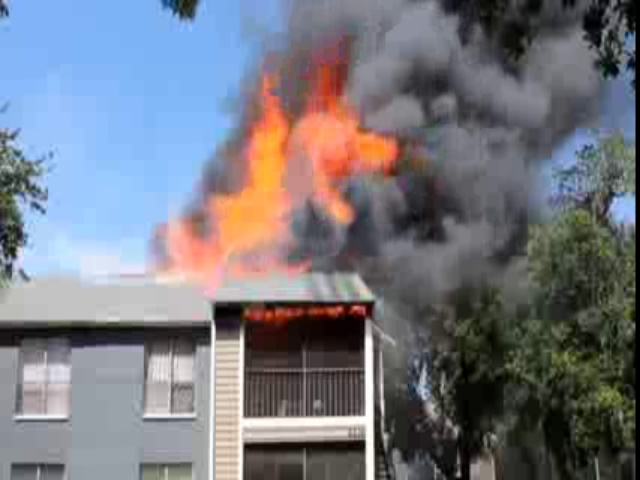fire: (203, 110, 401, 239)
